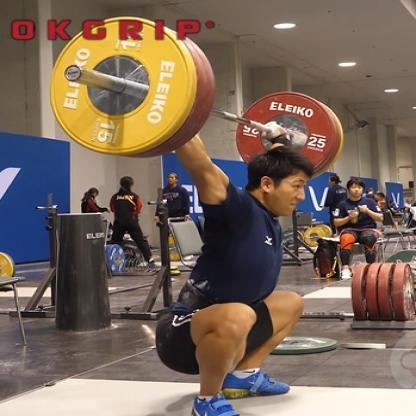barbell: (48, 16, 345, 181), (348, 258, 416, 322)
